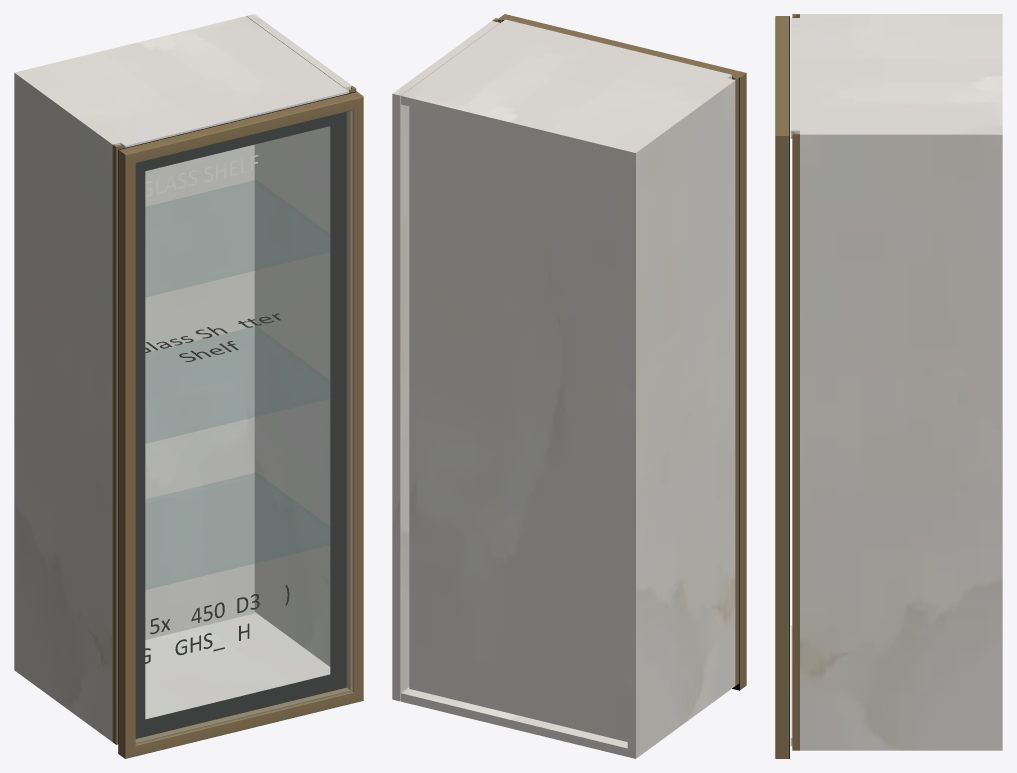
Rendered from WC3GS1GHS_RH (H1085xW450xD336).glb.
3 views of the same model, side by side, from view 1: azimuth 30°, elevation 25°; view 2: azimuth 150°, elevation 25°; view 3: azimuth 270°, elevation 25° (orthographic). The views are drawn at different scales.
Size of what is drawn, in the model's own units: 0.45 by 1.09 by 0.358.
7 materials, 1 textured.
